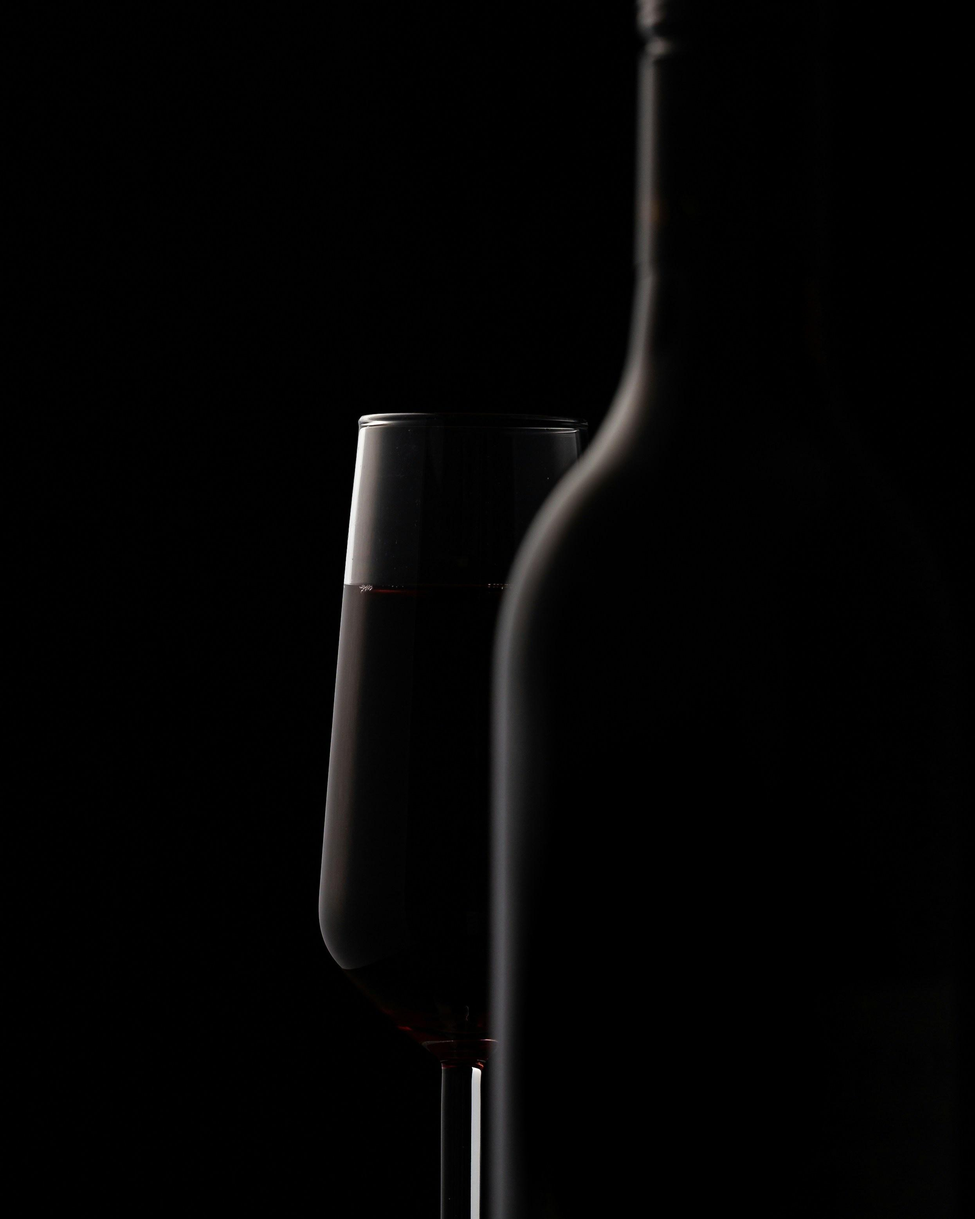Bottle-Detection: (454, 0, 963, 1219)
